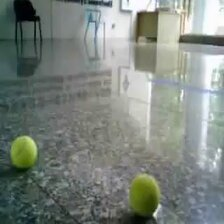tennis: (129, 173, 159, 214), (10, 135, 37, 168)
